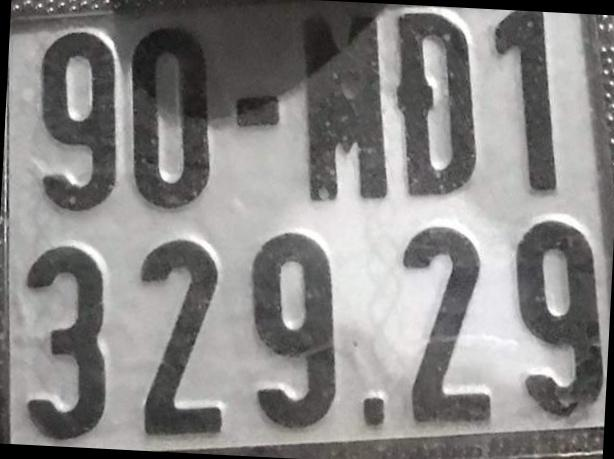-: (237, 93, 282, 130)
.: (361, 395, 389, 427)
0: (133, 28, 214, 205)
1: (489, 9, 558, 197)
2: (399, 222, 494, 421), (139, 242, 229, 437)
3: (25, 246, 109, 445)
9: (514, 215, 600, 410), (250, 235, 338, 425), (38, 30, 122, 212)
D: (395, 9, 478, 200)
M: (298, 17, 390, 213)
